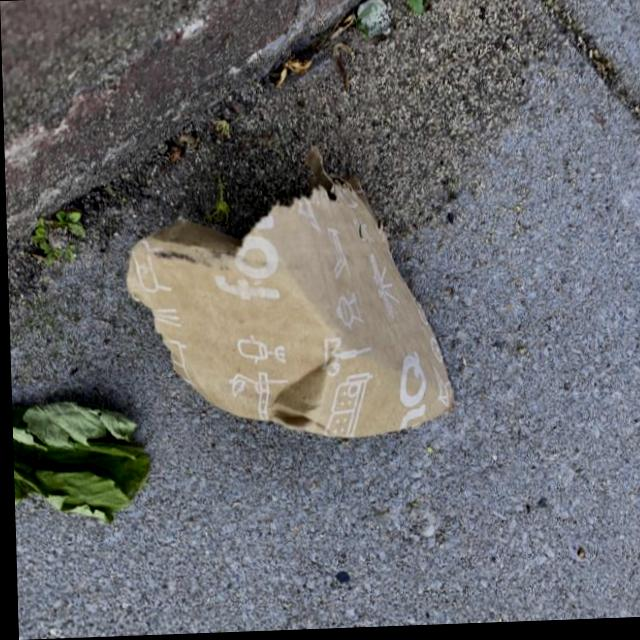Paper: (120, 145, 457, 450)
